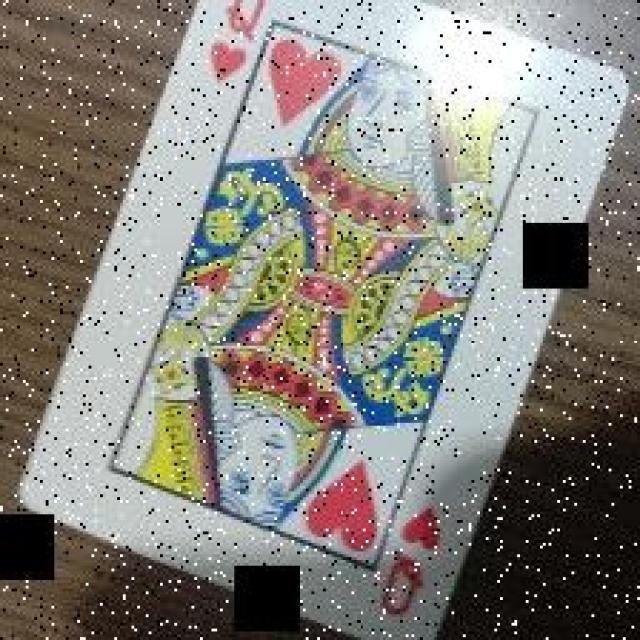Queen of hearts: (22, 2, 636, 640)
